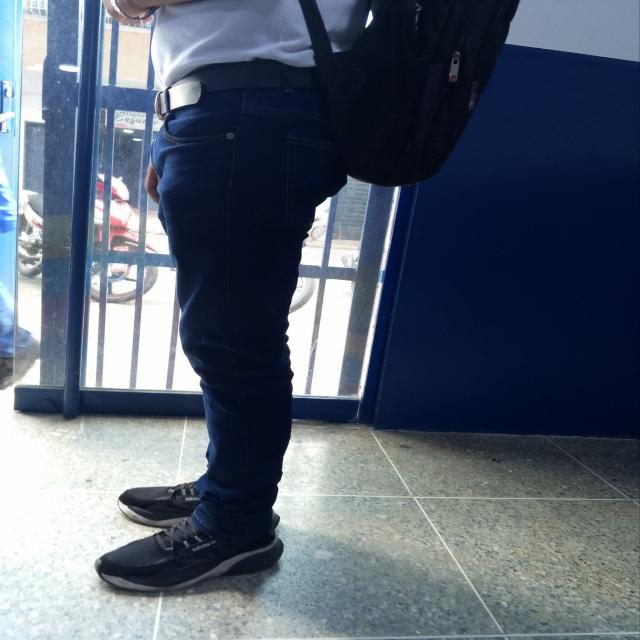pantalon_oscuro: (153, 86, 348, 546)
